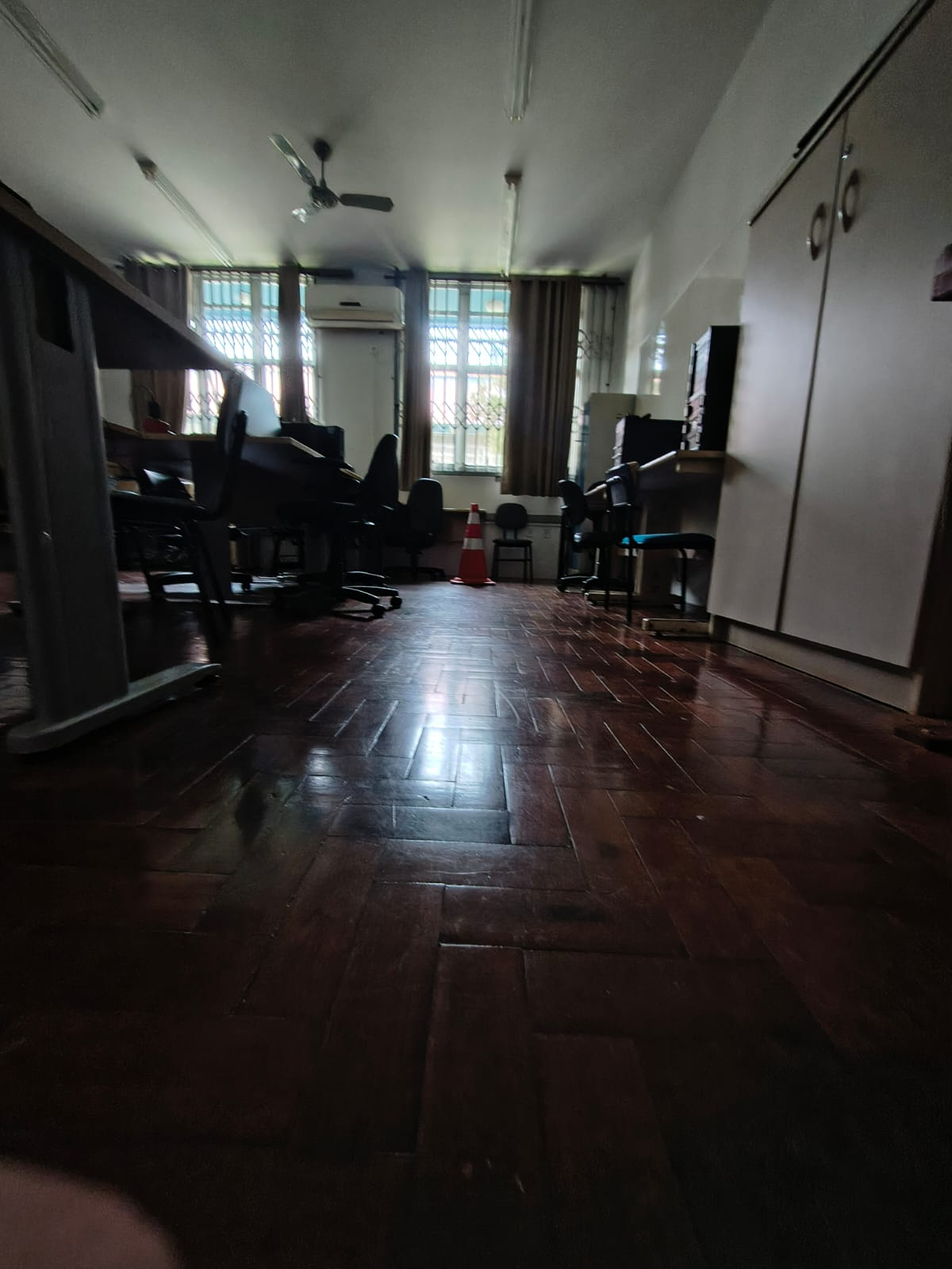cone: (447, 500, 499, 595)
